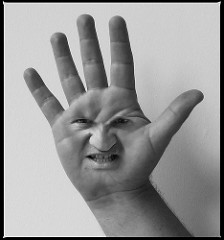palm: (61, 99, 156, 187)
